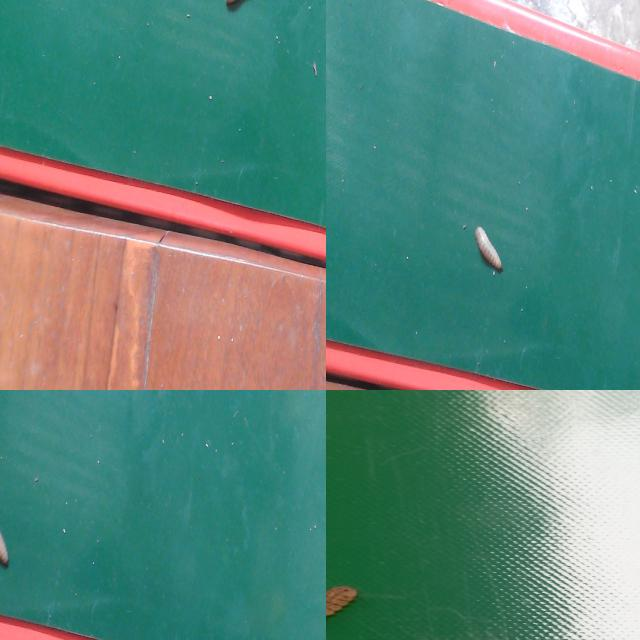Maggot: (474, 228, 504, 276), (326, 586, 360, 622), (0, 523, 11, 570), (223, 0, 255, 13)
